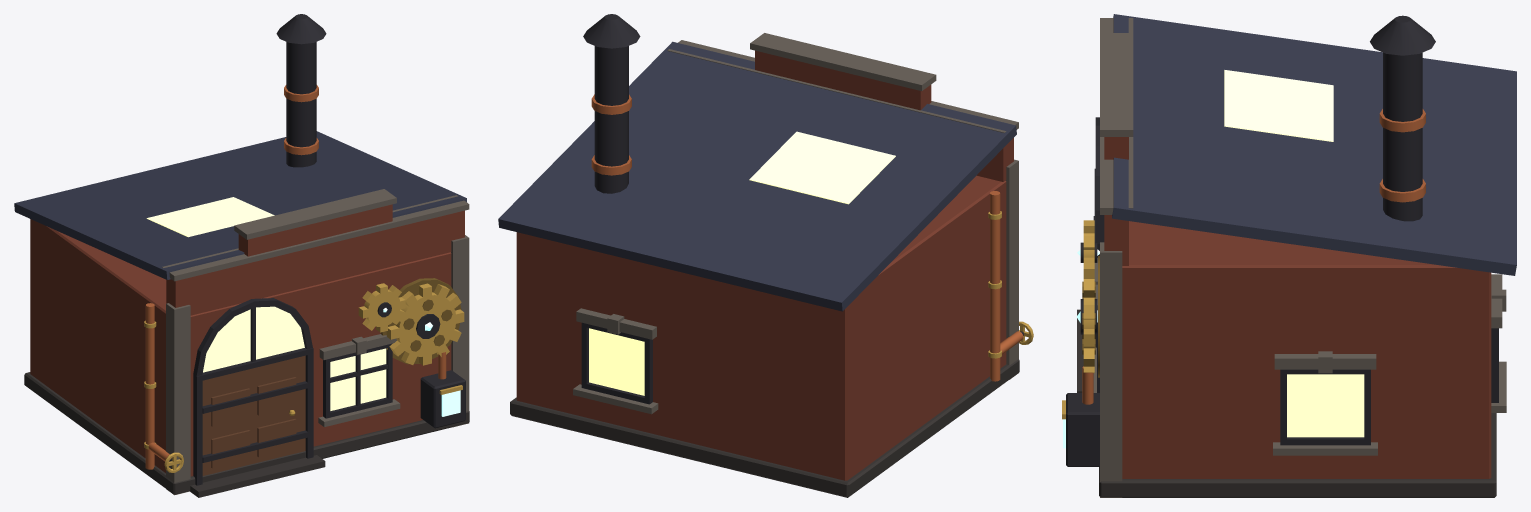
Rendered from Oficina.fbx.
3 views of the same model, side by side, from view 1: azimuth 30°, elevation 25°; view 2: azimuth 150°, elevation 25°; view 3: azimuth 270°, elevation 25° (orthographic). The views are drawn at different scales.
Visible parts, largest first — view 1: Corpo, JanelaAndar0, Engrenagem1, JanelaAndar1, Engrenagem2; view 2: Corpo, JanelaAndar1; view 3: Corpo, JanelaAndar1, Engrenagem1, Engrenagem2.
Part boxes in pixels (box(x1,y1,x2,y2)): Corpo: box(14, 14, 469, 497); JanelaAndar0: box(203, 306, 386, 410); Engrenagem1: box(386, 283, 464, 365); JanelaAndar1: box(146, 197, 274, 237); Engrenagem2: box(358, 283, 405, 332); Corpo: box(498, 14, 1033, 497); JanelaAndar1: box(589, 131, 895, 395); Corpo: box(1062, 14, 1516, 497); JanelaAndar1: box(1224, 70, 1364, 437); Engrenagem1: box(1076, 260, 1097, 373); Engrenagem2: box(1077, 220, 1099, 262).
Size of the model in its own units: 8.67 by 8.88 by 8.24.
